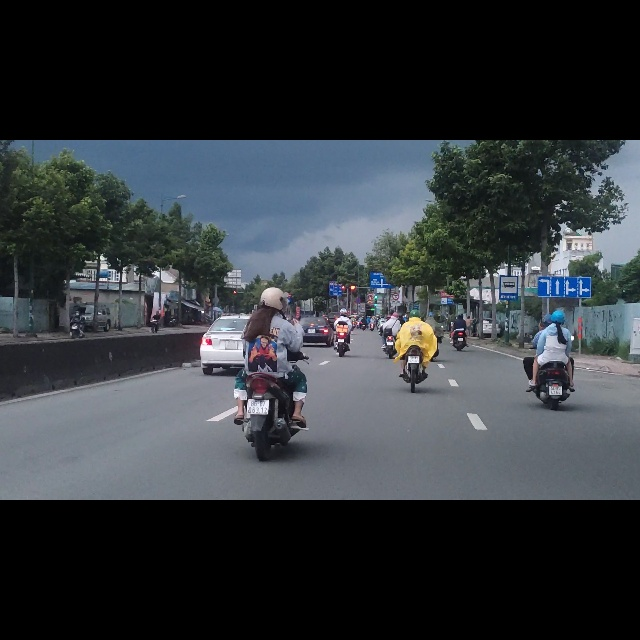bien_hieu_lenh: (500, 239, 518, 285), (393, 272, 399, 284)
